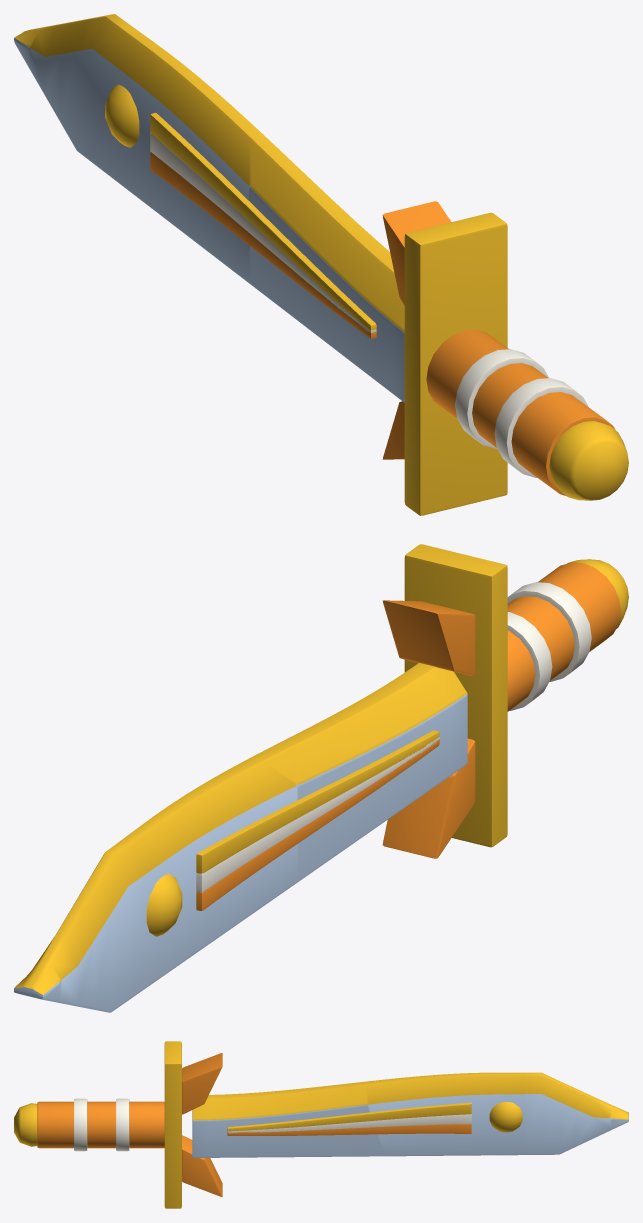
Rendered from Sword_CometFalchion.glb.
3 views of the same model, one above another, from view 1: azimuth 30°, elevation 25°; view 2: azimuth 150°, elevation 25°; view 3: azimuth 270°, elevation 25° (orthographic). The views are drawn at different scales.
Visible parts, largest first — view 1: Sword_CometFalchion; view 2: Sword_CometFalchion; view 3: Sword_CometFalchion.
Boxes of the visible parts, left/top/right/bottom form: Sword_CometFalchion: left=14, top=14, right=628, bottom=515; Sword_CometFalchion: left=14, top=544, right=628, bottom=1012; Sword_CometFalchion: left=14, top=1041, right=628, bottom=1208.
Size of the model in its own units: 0.088 by 0.26 by 1.
1 material, 1 textured.
